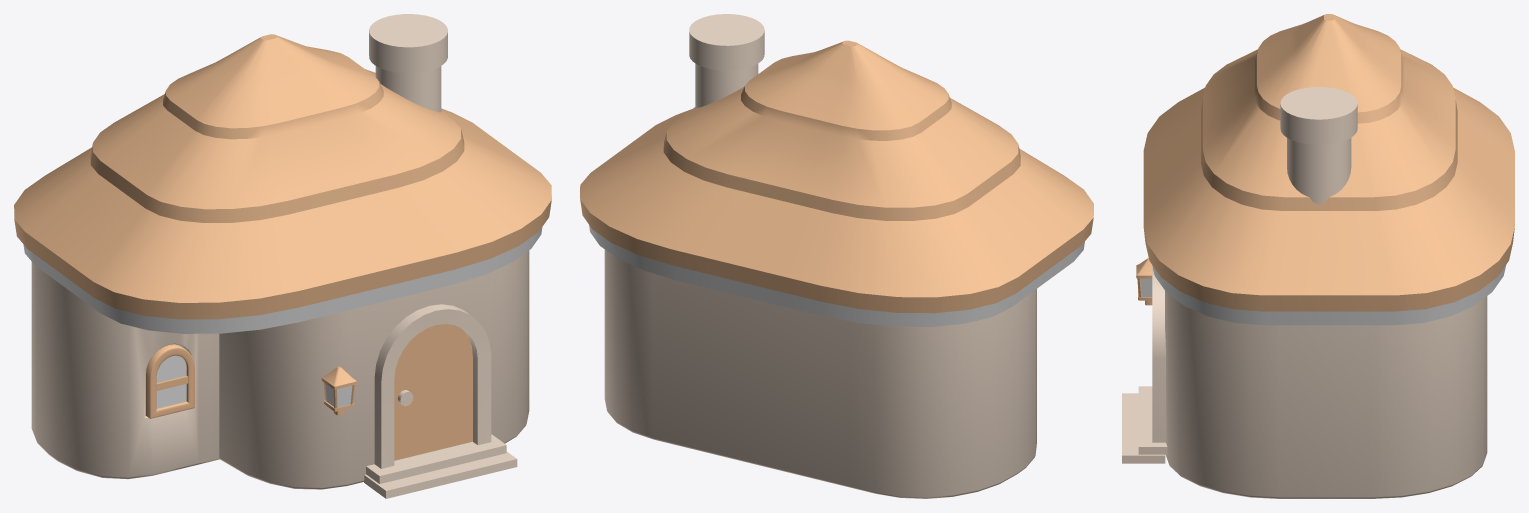
The model's file is House08.glb.
The picture shows the model from 3 angles, left to right: view 1: azimuth 30°, elevation 25°; view 2: azimuth 150°, elevation 25°; view 3: azimuth 270°, elevation 25°; orthographic projection. The views are drawn at different scales.
Visible parts, largest first — view 1: House, Door, Pipe, Window, Lamp; view 2: House, Pipe; view 3: House, Pipe, Door, Lamp.
Boxes of the visible parts, box(x1,y1,x2,y2) form: House: box(14, 34, 551, 489); Door: box(364, 304, 517, 498); Pipe: box(369, 14, 447, 112); Window: box(146, 344, 194, 418); Lamp: box(321, 366, 356, 415); House: box(580, 40, 1093, 498); Pipe: box(689, 14, 764, 107); House: box(1143, 14, 1514, 498); Pipe: box(1280, 87, 1357, 204); Door: box(1122, 269, 1167, 463); Lamp: box(1136, 258, 1152, 305).
Size of the model in its own units: 1.19 by 0.9865 by 0.9262.
